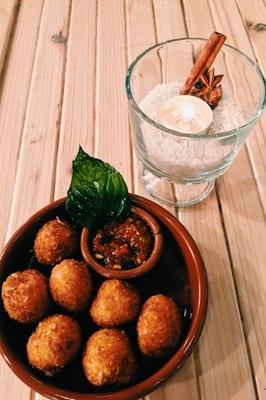sushi: (79, 201, 164, 280)
